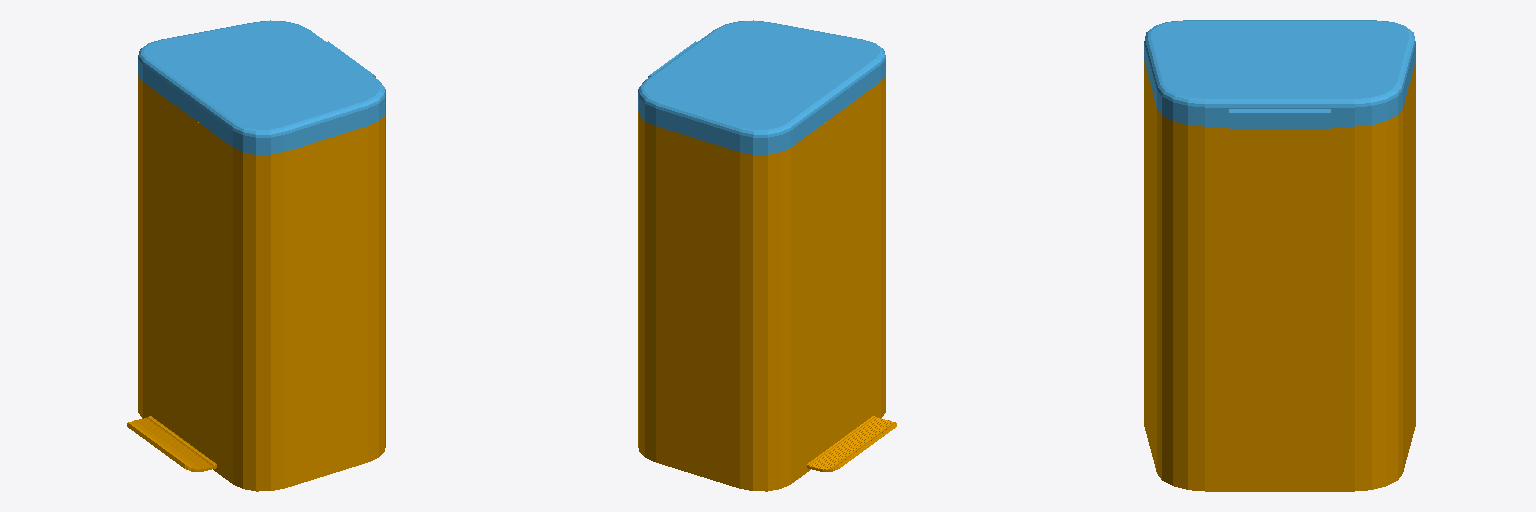
The robot description file, URDF, robot "Refrigerator":
<robot name="Refrigerator">
    <link name="corpus">
        <visual>
            <geometry>
                <mesh filename="meshes/corpus.obj" scale="6.0"/>
            </geometry>
        </visual>
        <collision>
            <geometry>
                <mesh filename="meshes/corpus.obj" scale="6.0"/>
            </geometry>
        </collision>
    </link>
    <link name="lid">
        <visual>
            <geometry>
                <mesh filename="meshes/lid.obj" scale="6.0"/>
            </geometry>
        </visual>
        <collision>
            <geometry>
                <mesh filename="meshes/lid.obj" scale="6.0"/>
            </geometry>
        </collision>
    </link>

    <joint name="lid_hinge" type="revolute">
        <origin xyz="0.0 0.0 0.0" rpy="0.0 -1.867 0.0"/>
        <parent link="corpus"/>
        <child link="lid"/>
        <axis xyz="0.0 1.0 0.0"/>
        <limit lower="0.0" upper="1.867" effort="100.0" velocity="100.0"/>
    </joint>
</robot>

--- What the picture shows (computed from the rendered views, not written in the file) ---
3 views of the same robot in one strip: view 1: azimuth 30°, elevation 25°; view 2: azimuth 150°, elevation 25°; view 3: azimuth 270°, elevation 25° (orthographic).
Model Refrigerator with 2 links and 1 joints (1 revolute), rooted at corpus, posed every joint at zero.
Links seen in each view (by area): view 1: corpus, lid; view 2: corpus, lid; view 3: corpus, lid.
Boxes of the visible links, bbox=[...] form: corpus: bbox=[127, 76, 385, 491]; lid: bbox=[138, 20, 385, 154]; corpus: bbox=[638, 76, 896, 491]; lid: bbox=[638, 20, 885, 154]; corpus: bbox=[1144, 62, 1415, 491]; lid: bbox=[1144, 20, 1415, 129].
Size in the robot's own frame: 2.27 by 2.5 by 3.96 metres.
2 mesh visuals loaded from 2 distinct referenced files (2 OBJ).